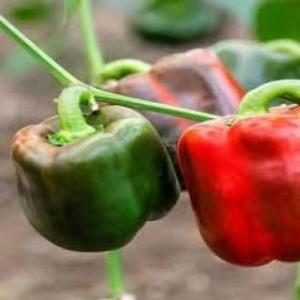bell_pepper: (8, 100, 184, 258)
